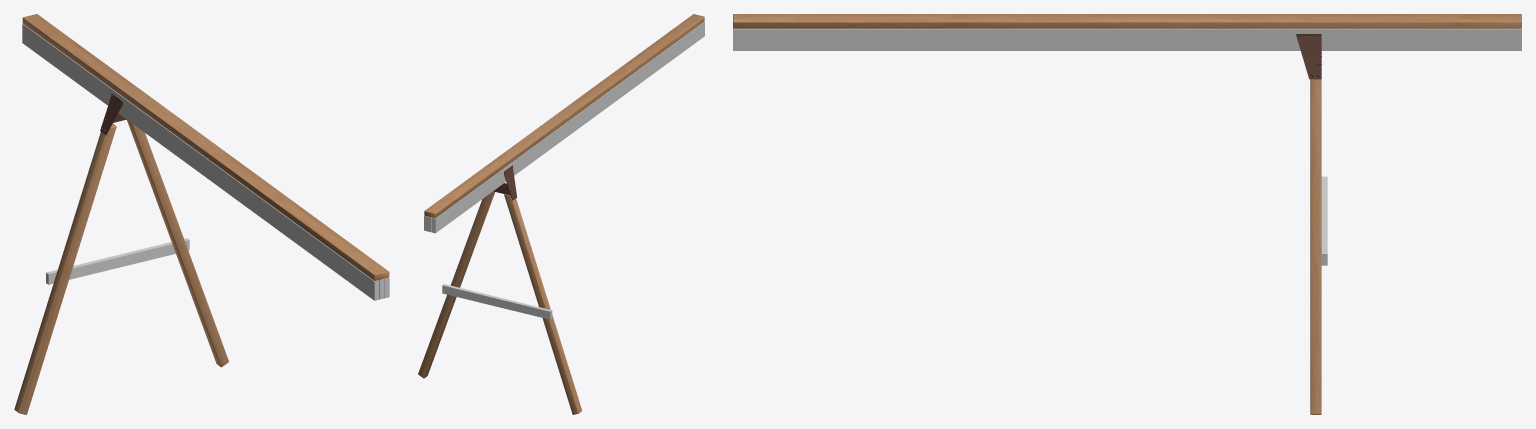
3 renders of one model, left to right at view 1: azimuth 30°, elevation 25°; view 2: azimuth 150°, elevation 25°; view 3: azimuth 270°, elevation 25°, orthographic. The views are drawn at different scales.
Parts seen in each view (by area): view 1: Plane077, Plane077_1,_colorize_, Plane077_2; view 2: Plane077, Plane077_1,_colorize_, Plane077_2; view 3: Plane077_1,_colorize_, Plane077, Plane077_2.
Part boxes in pixels (bbox=[...]): Plane077: bbox=[14, 14, 389, 414]; Plane077_1,_colorize_: bbox=[22, 23, 389, 300]; Plane077_2: bbox=[100, 93, 126, 134]; Plane077: bbox=[418, 14, 704, 414]; Plane077_1,_colorize_: bbox=[424, 21, 704, 319]; Plane077_2: bbox=[493, 165, 517, 200]; Plane077_1,_colorize_: bbox=[733, 28, 1521, 265]; Plane077: bbox=[733, 14, 1521, 414]; Plane077_2: bbox=[1296, 34, 1321, 79].
Size of the model in its own units: 1.98 by 2.76 by 5.75.
Materials: 3 (1 with a texture image).
